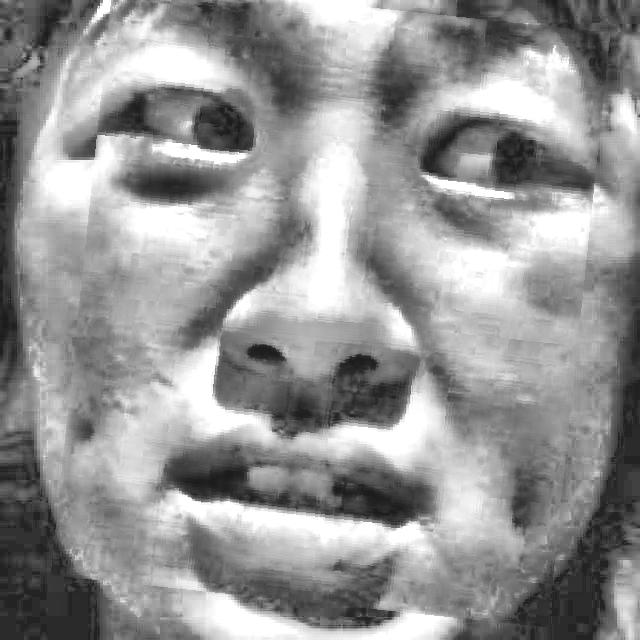fear: (66, 0, 595, 615)
